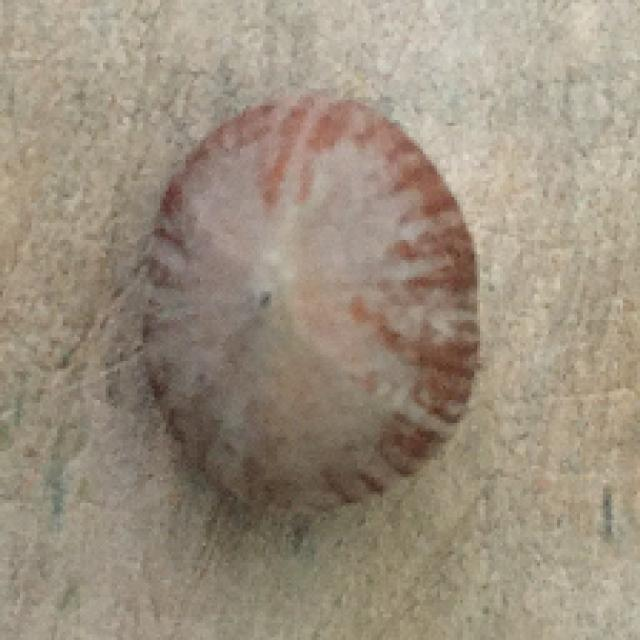QualityHazelnut: (140, 93, 488, 519)
